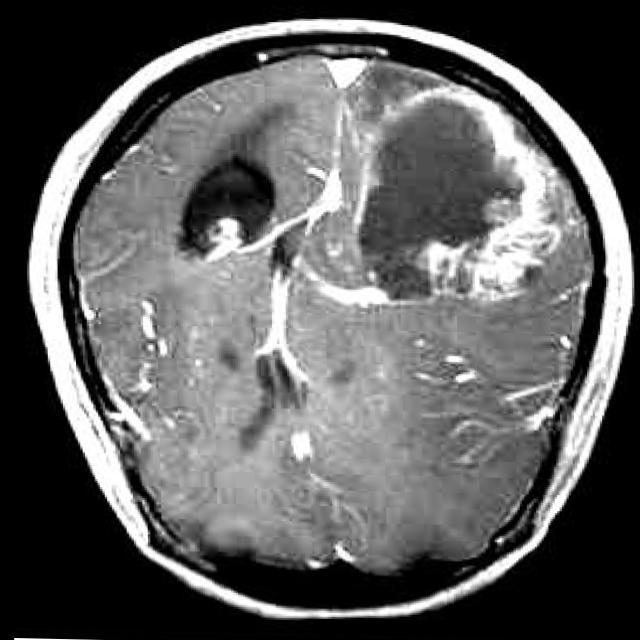Tumor: (356, 82, 562, 299), (178, 157, 273, 259)
